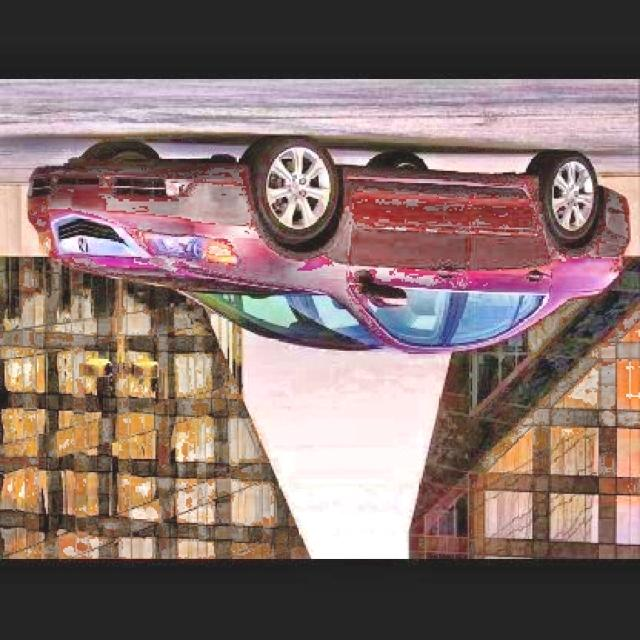maroon: (24, 144, 630, 356)
